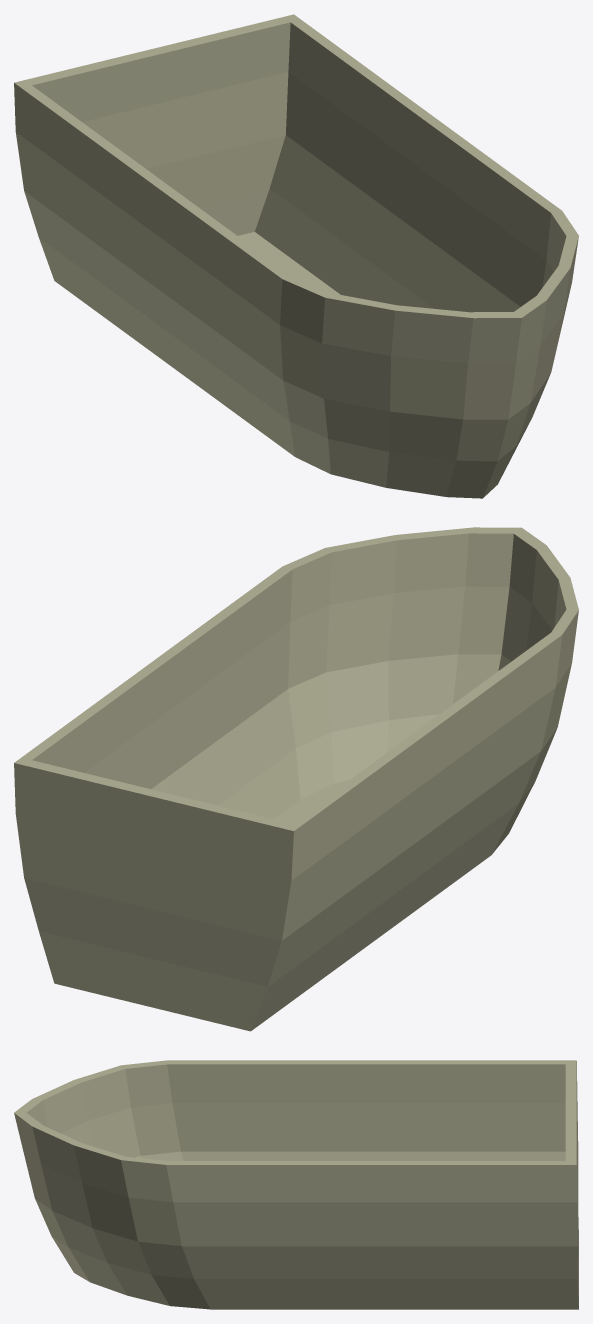
File: boat shell.fbx
3 views of the same model, one above another, from view 1: azimuth 30°, elevation 25°; view 2: azimuth 150°, elevation 25°; view 3: azimuth 270°, elevation 25° (orthographic). The views are drawn at different scales.
Parts seen in each view (by area): view 1: Plane; view 2: Plane; view 3: Plane.
Part boxes in pixels (bbox=[...]): Plane: bbox=[14, 14, 578, 498]; Plane: bbox=[14, 527, 578, 1031]; Plane: bbox=[14, 1060, 578, 1309].
Size of the model in its own units: 271 by 194 by 619.
